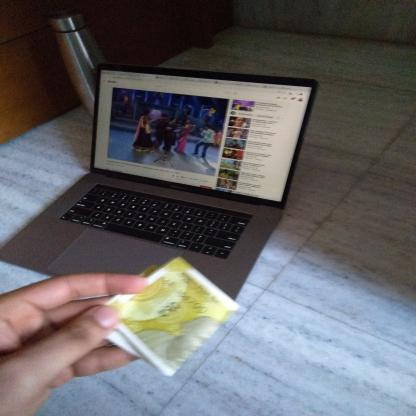New20Front: (112, 260, 228, 368)
